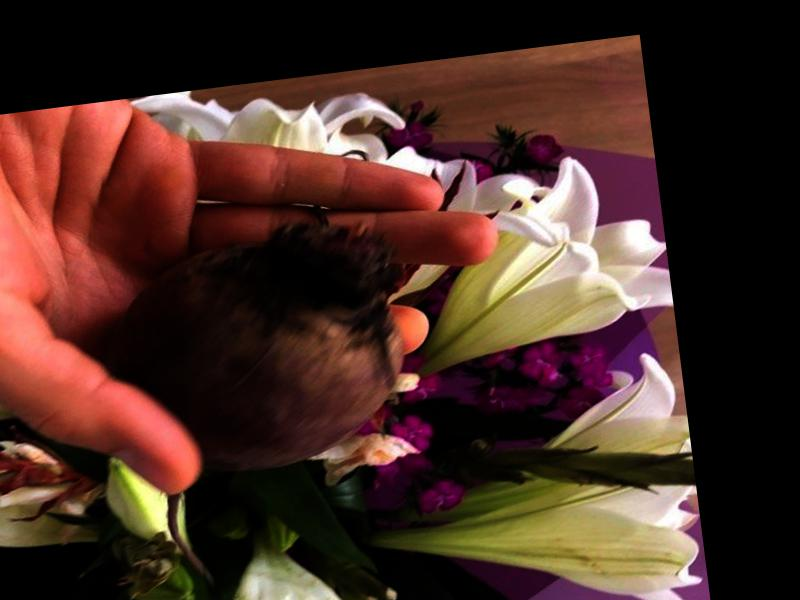Beet: (98, 220, 434, 594)
